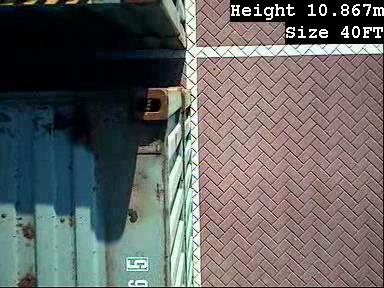groundmarker_2: (1, 29, 112, 91)
